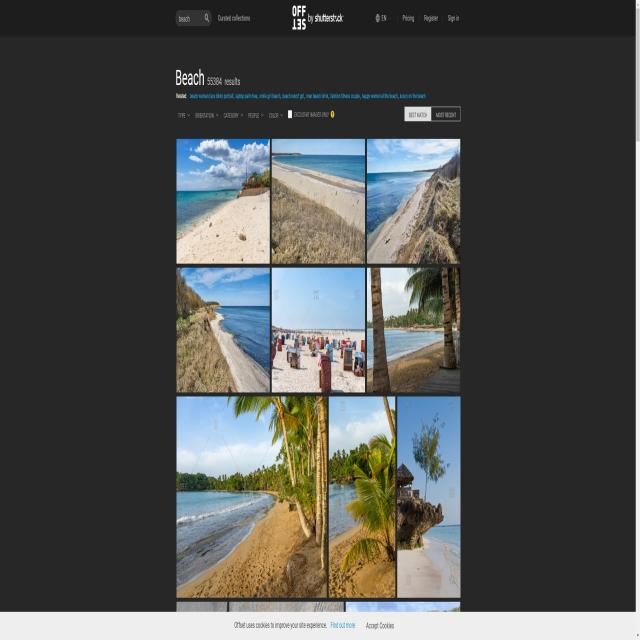menu-bar: (366, 8, 474, 33)
search: (178, 9, 210, 26)
tab-bar: (173, 103, 284, 127), (399, 99, 466, 125)
